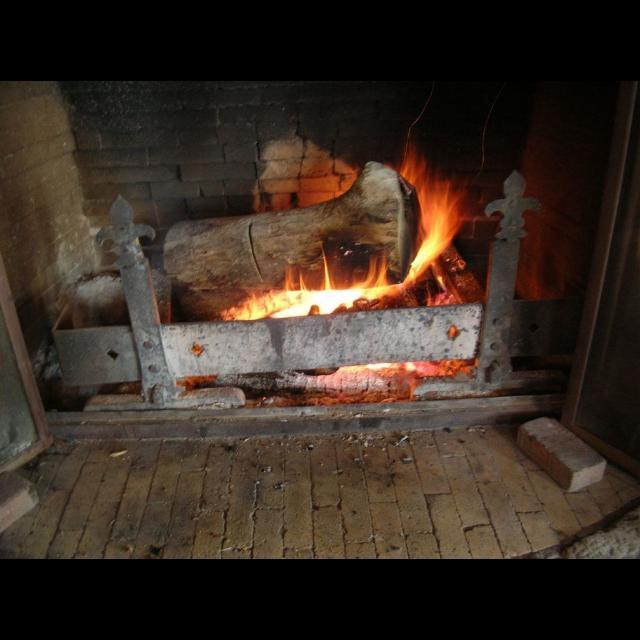Fire: (218, 143, 464, 321), (340, 362, 440, 376)
